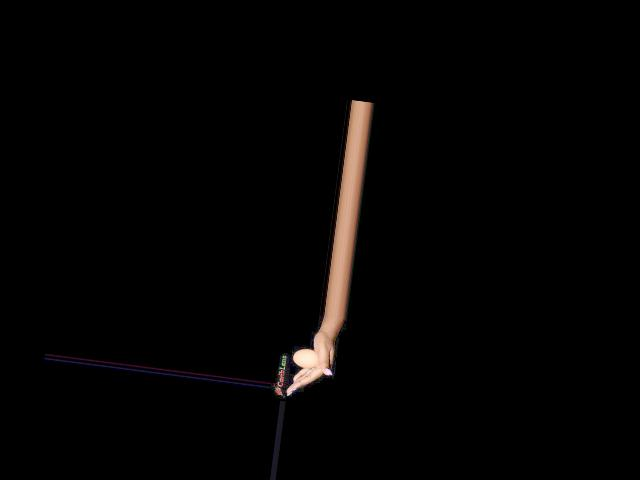egg: (292, 347, 319, 369)
